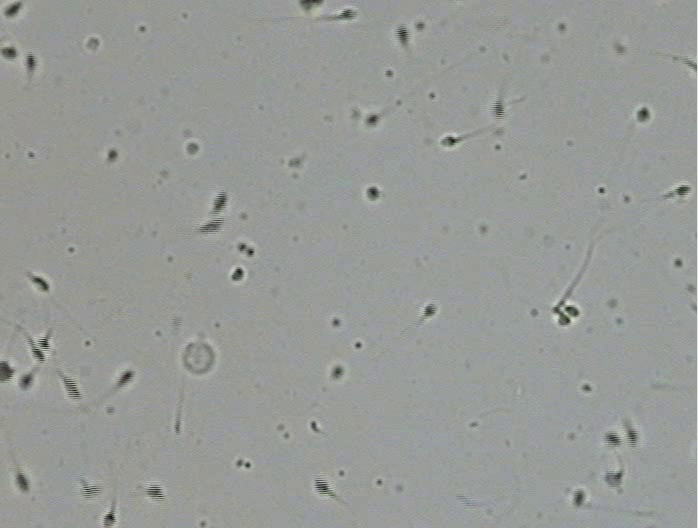Impurity: (181, 342, 215, 375), (86, 37, 99, 50)
S: (61, 375, 82, 400), (198, 218, 222, 235), (29, 339, 45, 363), (313, 476, 331, 495), (145, 484, 165, 501), (213, 190, 227, 213), (395, 25, 411, 45), (604, 469, 622, 486), (31, 276, 49, 292), (1, 360, 14, 382), (15, 472, 29, 492), (117, 370, 134, 386), (81, 483, 98, 499), (625, 427, 638, 447), (37, 334, 51, 352), (18, 374, 34, 389), (604, 432, 621, 446), (572, 488, 585, 506), (492, 100, 504, 119), (5, 3, 22, 16), (103, 511, 116, 528), (25, 52, 36, 72), (299, 1, 323, 10), (338, 9, 357, 20), (637, 106, 650, 122), (1, 47, 18, 59), (423, 303, 437, 317), (366, 186, 379, 201), (675, 184, 691, 196), (564, 305, 580, 317), (440, 136, 457, 147), (231, 267, 244, 281), (330, 366, 344, 379), (557, 314, 570, 326), (107, 149, 119, 161), (187, 143, 199, 155), (366, 114, 379, 125), (690, 59, 697, 74)
